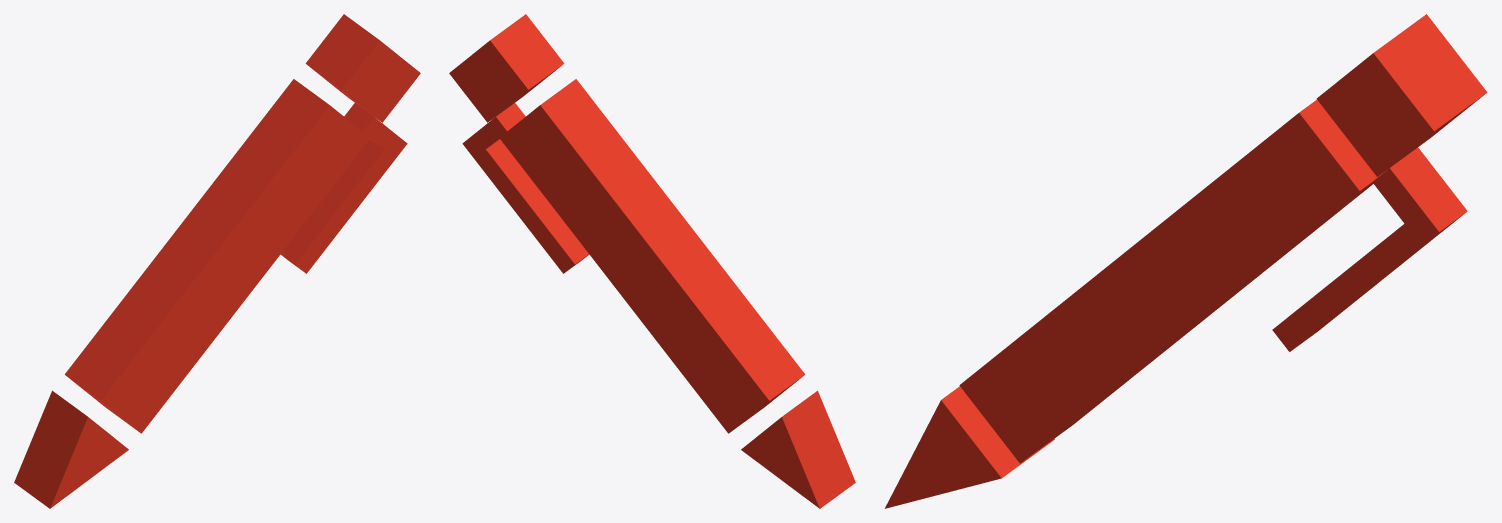
The model's file is Icon_Pen.fbx.
3 views of the same model, side by side, from view 1: azimuth 30°, elevation 25°; view 2: azimuth 150°, elevation 25°; view 3: azimuth 330°, elevation 25° (orthographic). The views are drawn at different scales.
Parts seen in each view (by area): view 1: Icon_Pen; view 2: Icon_Pen; view 3: Icon_Pen.
Part boxes in pixels (bbox=[...]): Icon_Pen: bbox=[14, 14, 420, 508]; Icon_Pen: bbox=[449, 14, 855, 508]; Icon_Pen: bbox=[884, 14, 1487, 508].
Size of the model in its own units: 71.84 by 71.84 by 12.06.
